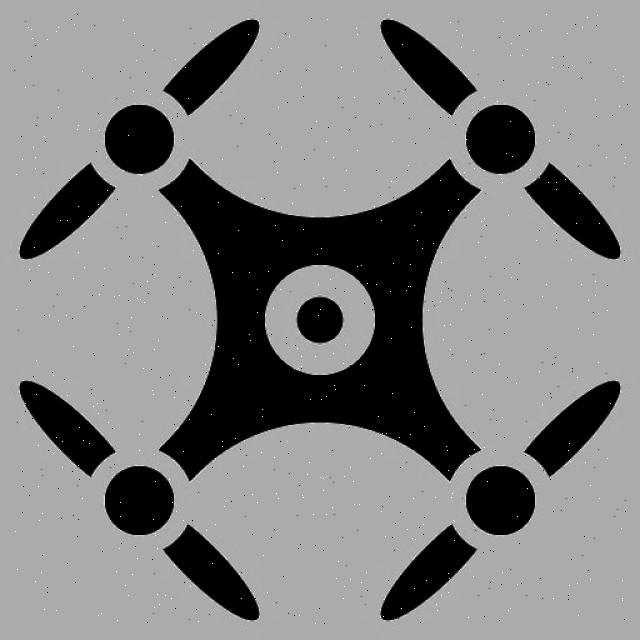drone: (15, 16, 629, 626)
